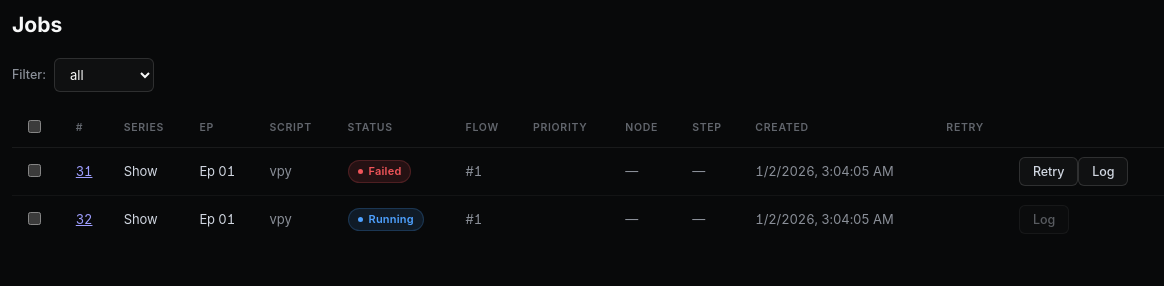
it: Jobs page › selects rows and runs a bulk retry with affected/skipped feedback
Check: the link "31" is shown, box [76,163,92,179]
Check: the button "retry selected" is not shown
# Check both rows via the header select-all.
Click the checkbox named "Select all jobs". click: (34, 127)
box: [28,120,41,133]
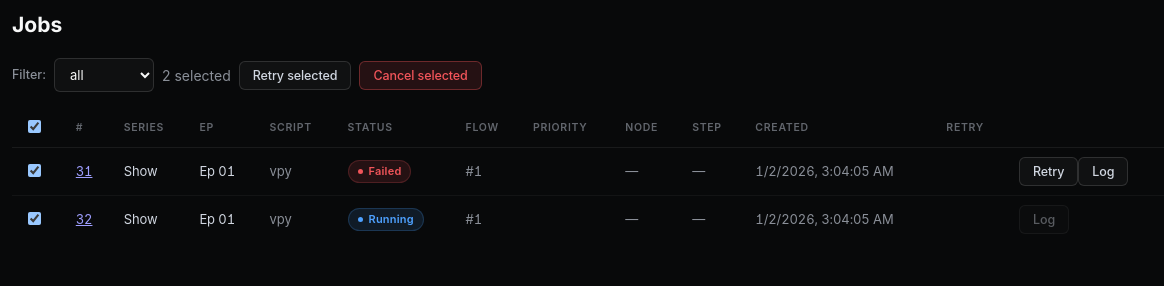
Check: the text "2 selected" is shown, box [162,65,231,86]
Click the button "Retry selected". click: (295, 75)
box: [239,61,351,90]
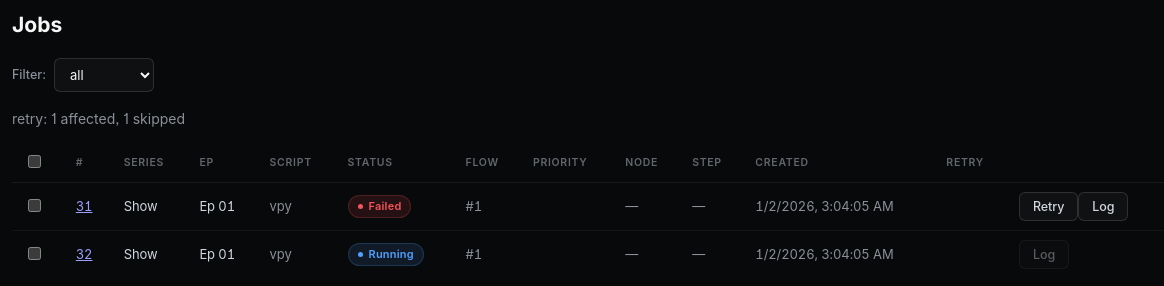
Check: the text "retry: 1 affected, 1 skipped" is shown, box [12,110,185,127]
Check: the text "2 selected" is gone
